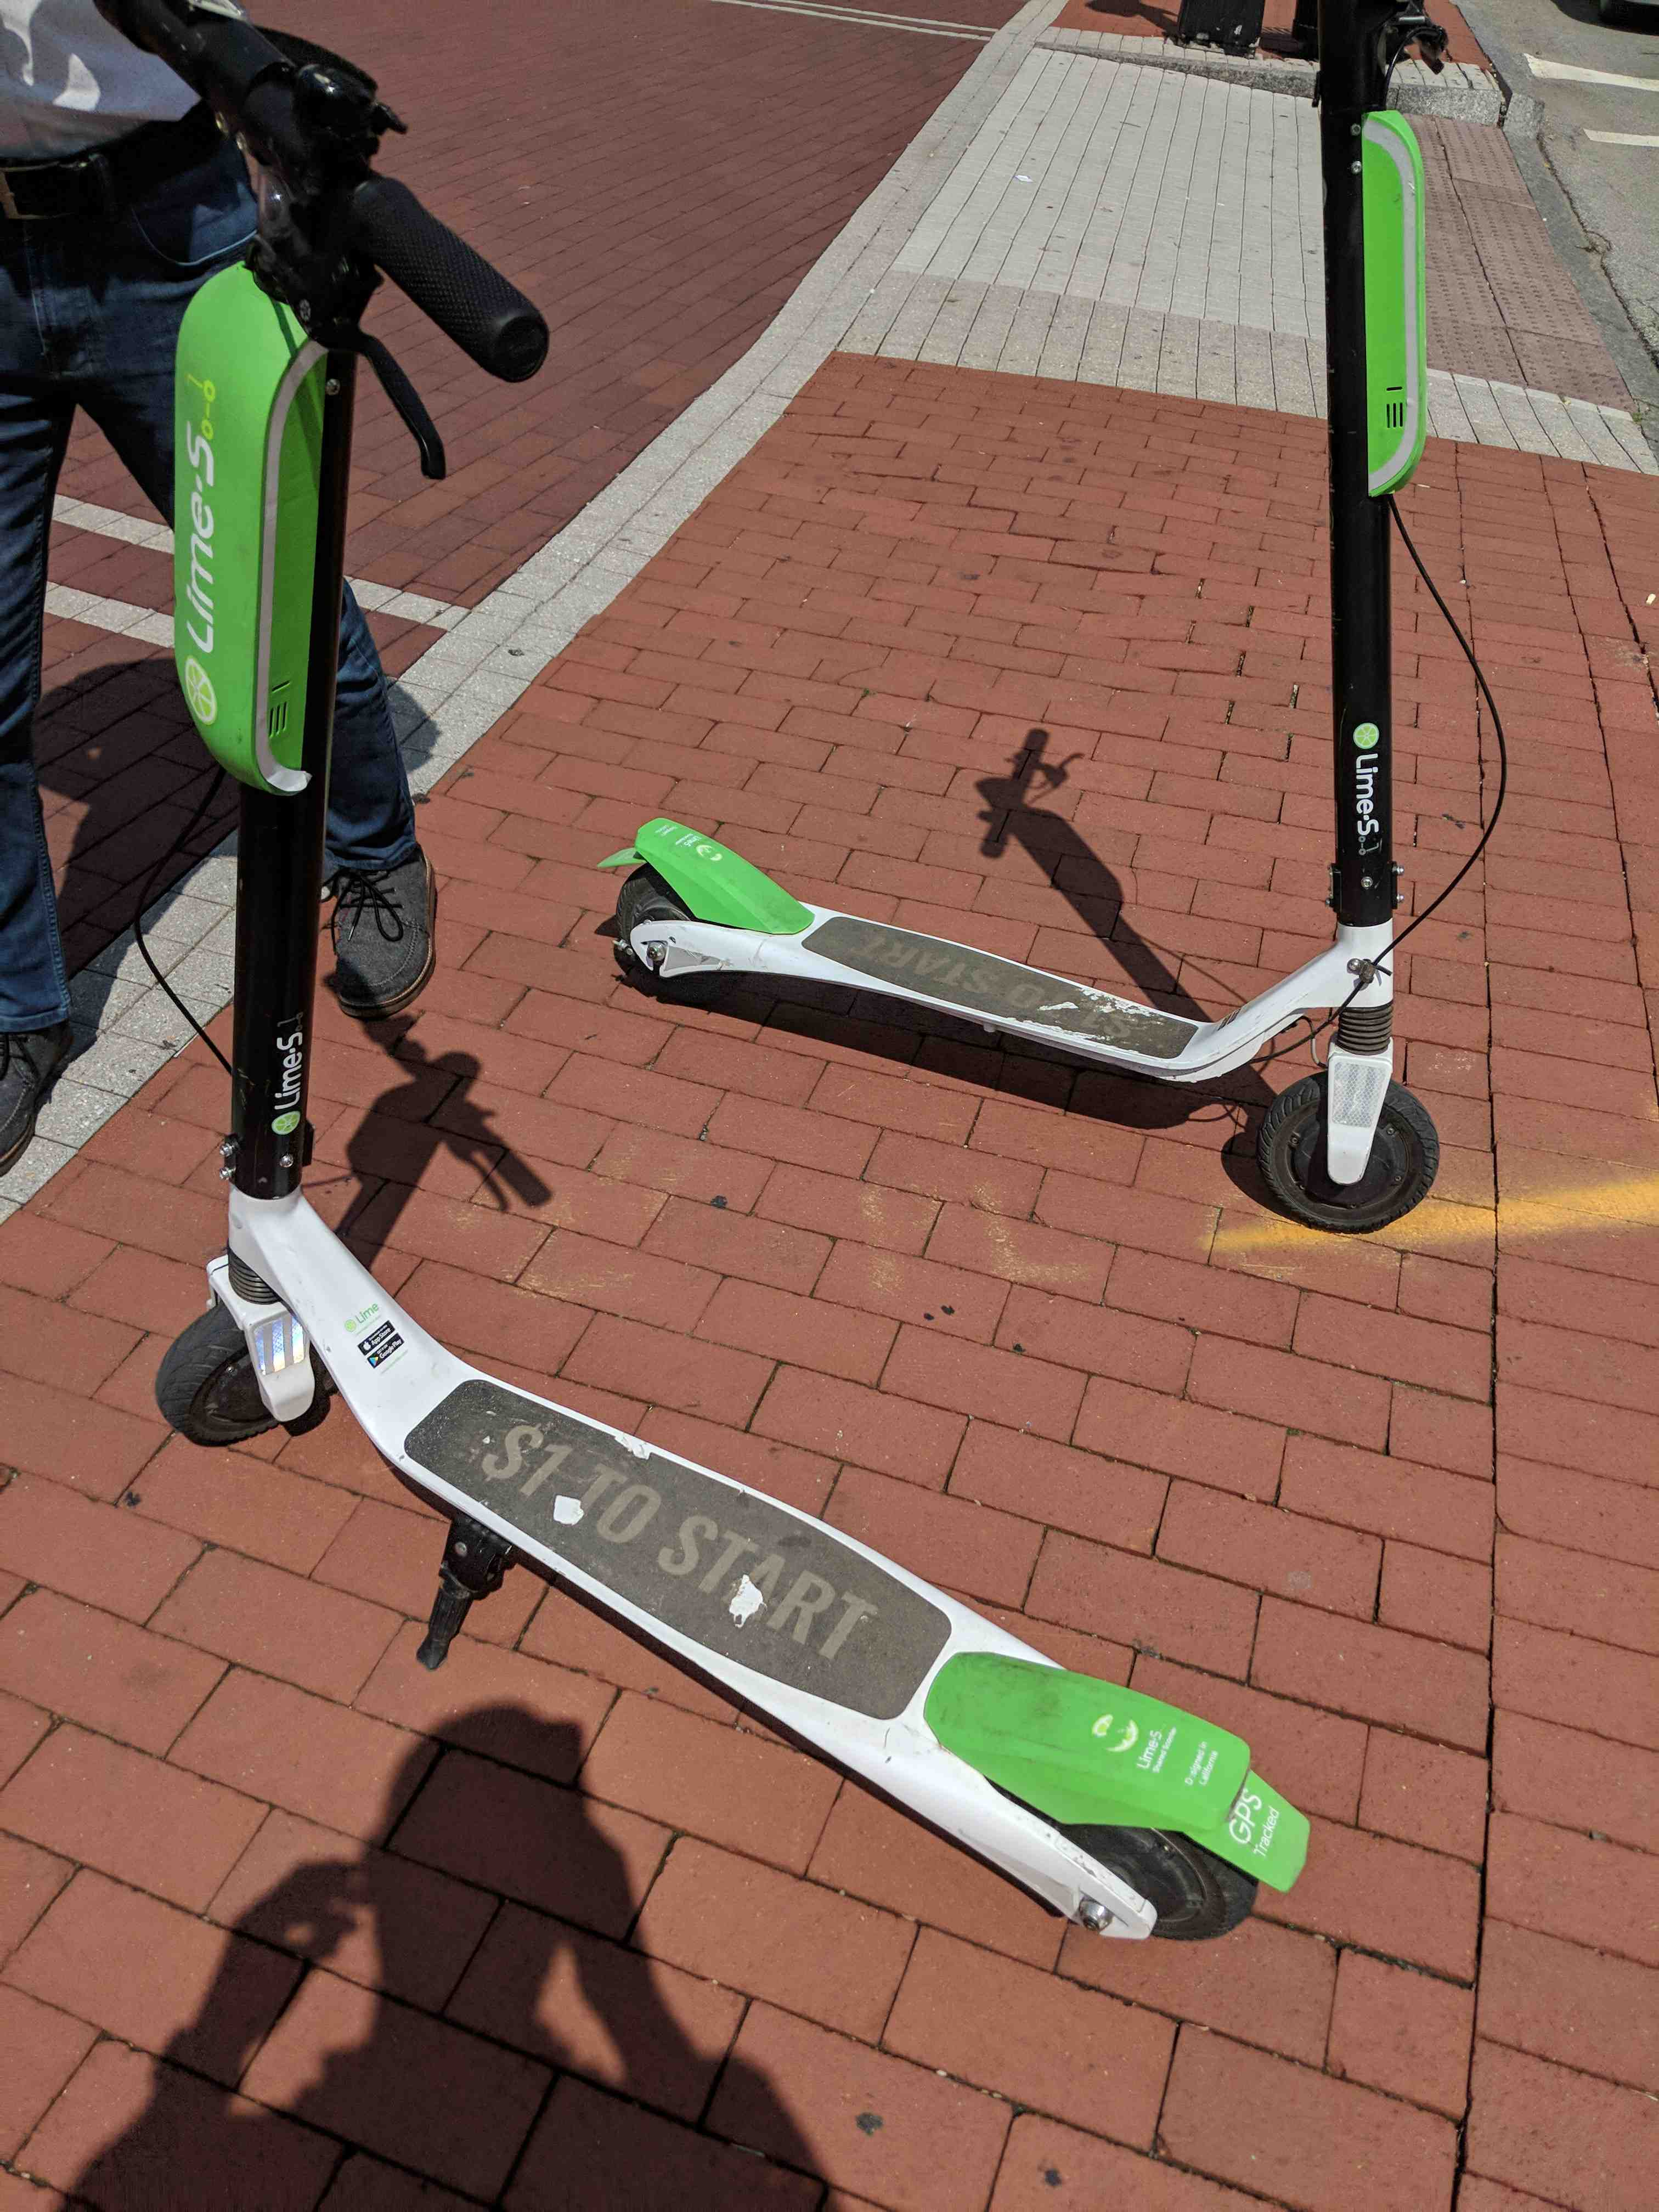scooter: (58, 0, 1331, 1982), (598, 2, 1462, 1261)
